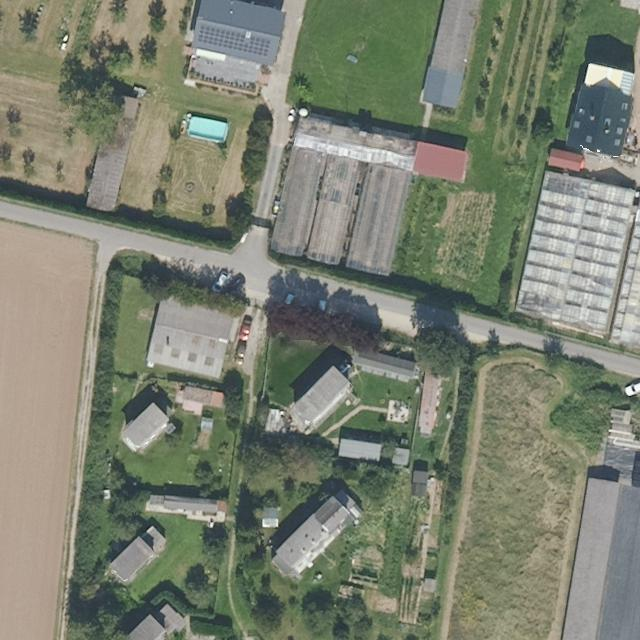PV: (194, 22, 274, 61)
